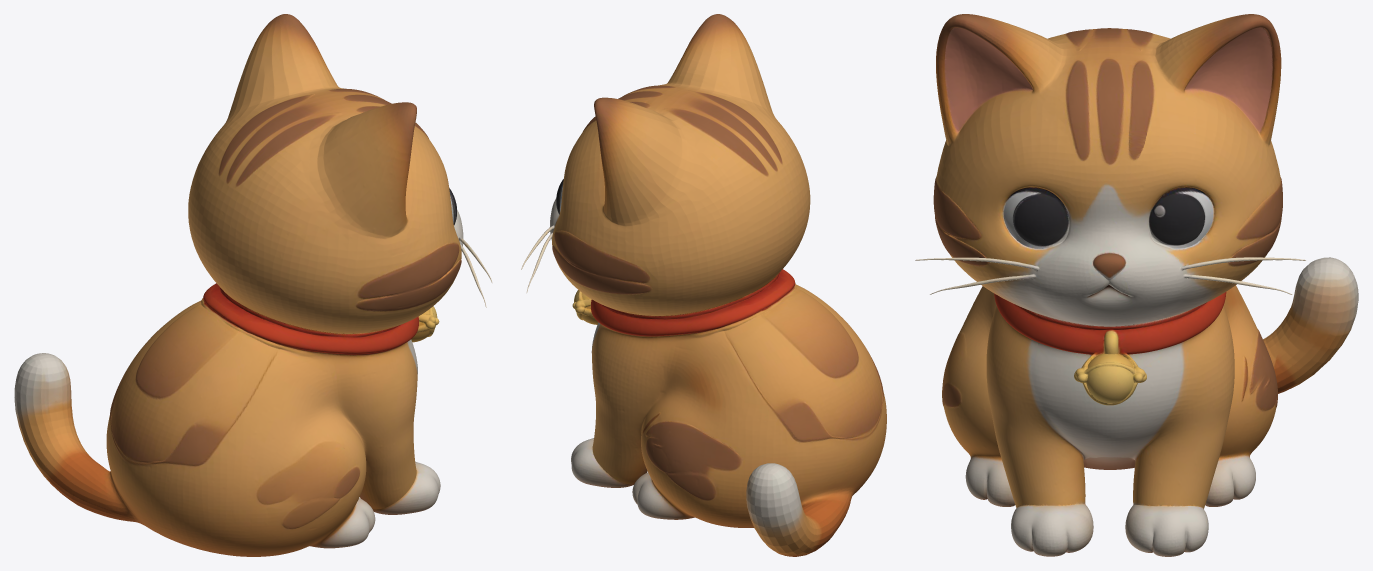
File: model_dfde90cf-a39d-4bcd-b1fd-d74c46db986c_draco.glb
3 renders of one model, left to right at view 1: azimuth 30°, elevation 25°; view 2: azimuth 150°, elevation 25°; view 3: azimuth 270°, elevation 25°, orthographic. The views are drawn at different scales.
Visible parts, largest first — view 1: tripo_node_dfde90cf-a39d-4bcd-b1fd-d74c46db986c; view 2: tripo_node_dfde90cf-a39d-4bcd-b1fd-d74c46db986c; view 3: tripo_node_dfde90cf-a39d-4bcd-b1fd-d74c46db986c.
Part boxes in pixels (x1,y1,x2,y2): tripo_node_dfde90cf-a39d-4bcd-b1fd-d74c46db986c: (14, 14, 492, 556); tripo_node_dfde90cf-a39d-4bcd-b1fd-d74c46db986c: (521, 14, 886, 556); tripo_node_dfde90cf-a39d-4bcd-b1fd-d74c46db986c: (915, 14, 1358, 556).
Size of the model in its own units: 0.8254 by 0.9999 by 0.7863.
Materials: 1 (1 with a texture image).
